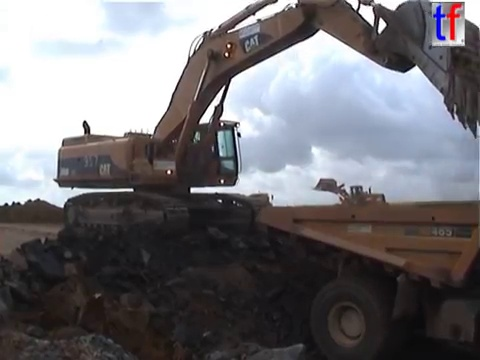excavator: (50, 1, 480, 242)
truck: (254, 199, 480, 360)
wheel loader: (311, 176, 390, 216)
